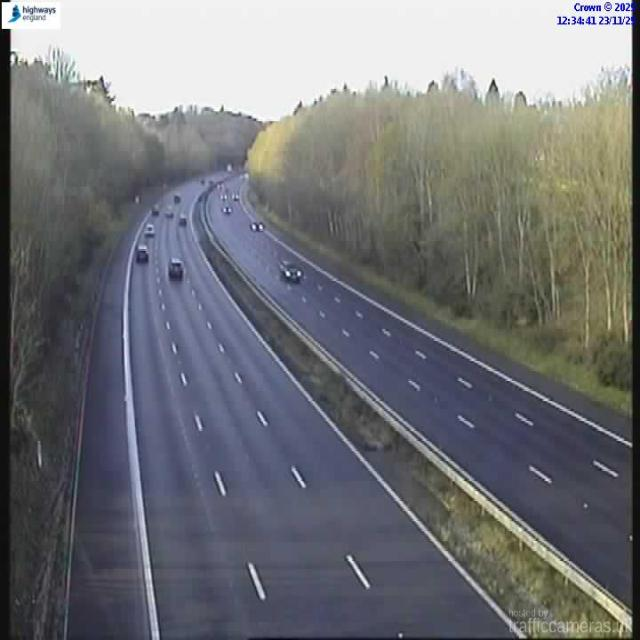foliage: (248, 69, 631, 413), (9, 61, 221, 521)
